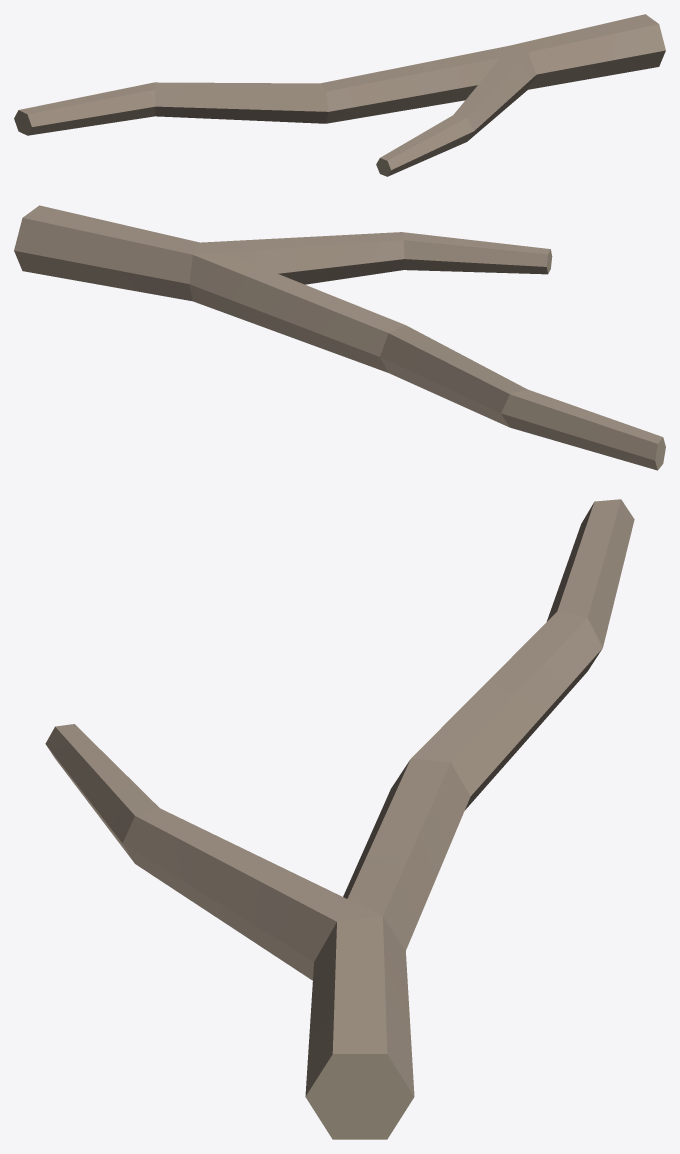
Rendered from Prop_Branch_2.glb.
The picture shows the model from 3 angles, top to bottom: view 1: azimuth 30°, elevation 25°; view 2: azimuth 150°, elevation 25°; view 3: azimuth 270°, elevation 25°; orthographic projection. The views are drawn at different scales.
Parts seen in each view (by area): view 1: Prop_Branch_2_Merged; view 2: Prop_Branch_2_Merged; view 3: Prop_Branch_2_Merged.
Part boxes in pixels (<box>): Prop_Branch_2_Merged: <box>14,14,665,176</box>; Prop_Branch_2_Merged: <box>14,205,665,470</box>; Prop_Branch_2_Merged: <box>45,499,634,1139</box>.
Size of the model in its own units: 1.81 by 0.1381 by 0.8111.
